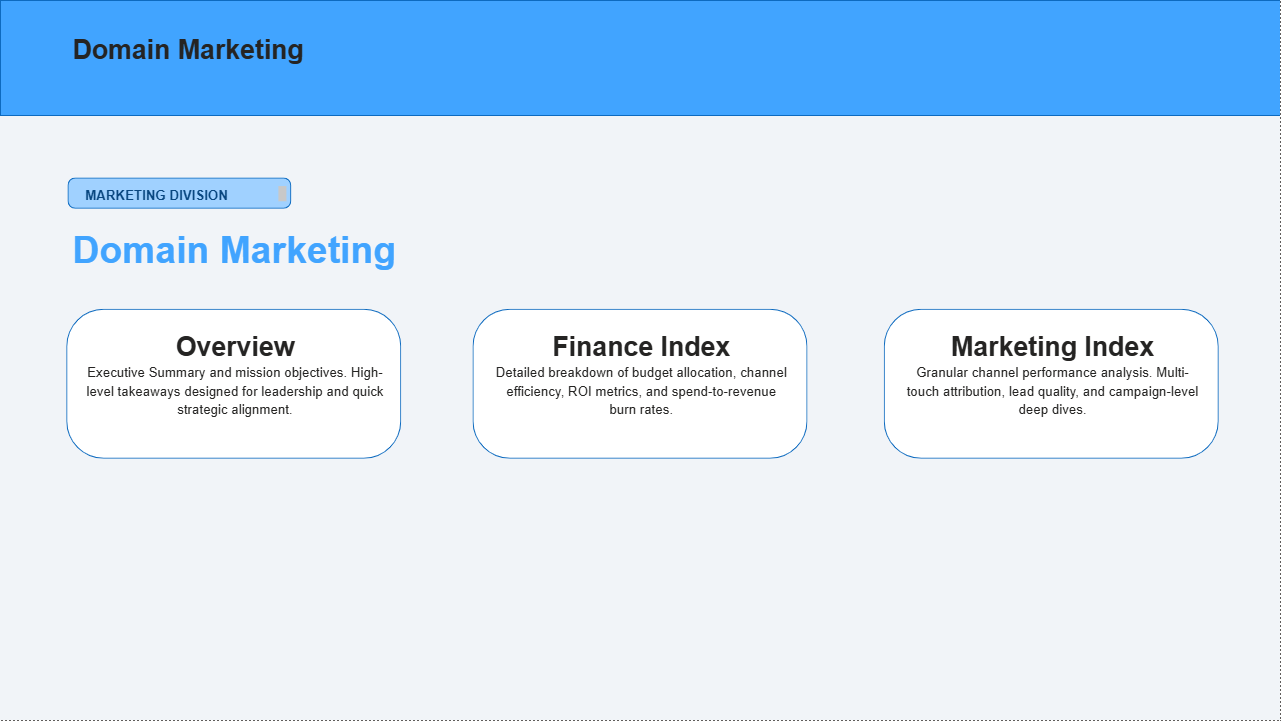

What the dashboard file says about the page in this screenshot:
{"tool":"powerbi","page":{"name":"Domain Marketing","canvas":[1280,720],"ordinal":0},"visuals":[{"type":"shape","box":[0,0,2050,116],"z":0},{"type":"textbox","box":[67.5,30,251.2,53.8],"z":1000},{"type":"shape","box":[67.5,177.5,223.8,31.2],"z":2000},{"type":"textbox","box":[80,181.2,211.2,25],"z":3000},{"type":"textbox","box":[67.5,223.8,333.8,58.8],"z":4000},{"type":"shape","box":[66.2,308.8,335,150],"z":5000},{"type":"shape","box":[472.5,308.8,335,150],"z":6000},{"type":"shape","box":[883.8,308.8,335,150],"z":7000},{"type":"textbox","box":[75,327.5,320,122.5],"z":8000},{"type":"textbox","box":[486.2,327.5,310,113.8],"z":9000},{"type":"textbox","box":[895,327.5,315,113.8],"z":10000}]}

Visuals, with their boxes in screenshot pixels (x1, y1, x2, y2), scaled from the page's 1280x720 canvas onto the 1281x721 screenshot:
shape: (left=0, top=0, right=1280, bottom=116)
textbox: (left=68, top=30, right=319, bottom=84)
shape: (left=68, top=178, right=292, bottom=209)
textbox: (left=80, top=181, right=291, bottom=206)
textbox: (left=68, top=224, right=402, bottom=283)
shape: (left=66, top=309, right=402, bottom=459)
shape: (left=473, top=309, right=808, bottom=459)
shape: (left=884, top=309, right=1220, bottom=459)
textbox: (left=75, top=328, right=395, bottom=451)
textbox: (left=487, top=328, right=797, bottom=442)
textbox: (left=896, top=328, right=1211, bottom=442)
